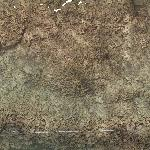dead: (1, 7, 145, 147)
